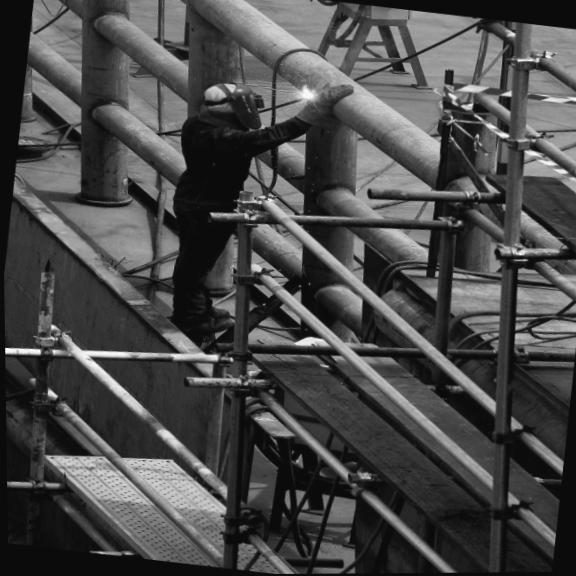no_safety_vest: (163, 98, 276, 227)
